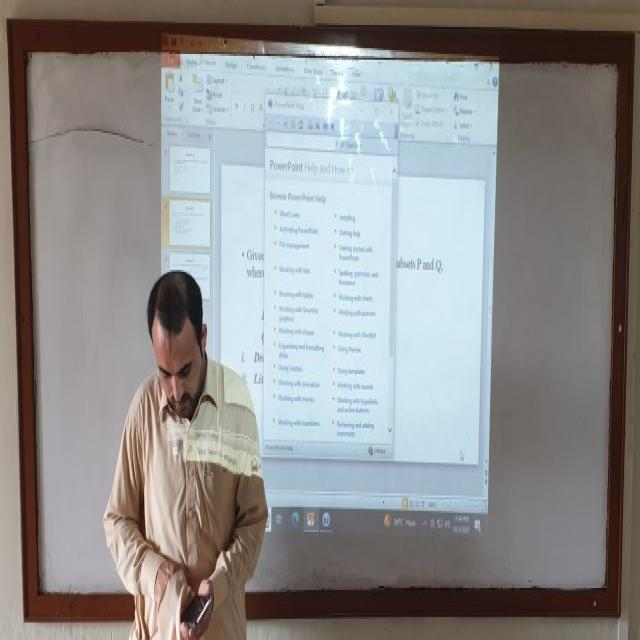Instructor: (121, 264, 241, 630)
Slide: (159, 26, 504, 543)
White-board: (17, 29, 624, 608)
